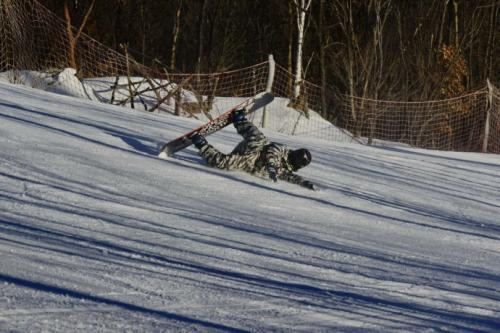Fall-Detected: (163, 91, 324, 193)
